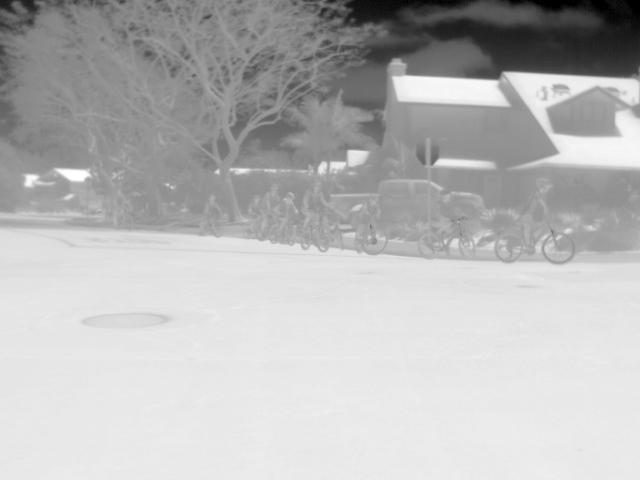car: (334, 177, 433, 225), (452, 186, 485, 214)
person: (517, 178, 554, 255), (298, 179, 334, 241), (433, 192, 460, 258), (349, 196, 381, 246), (258, 185, 286, 235), (199, 193, 225, 231), (105, 190, 128, 220), (248, 191, 262, 221)
